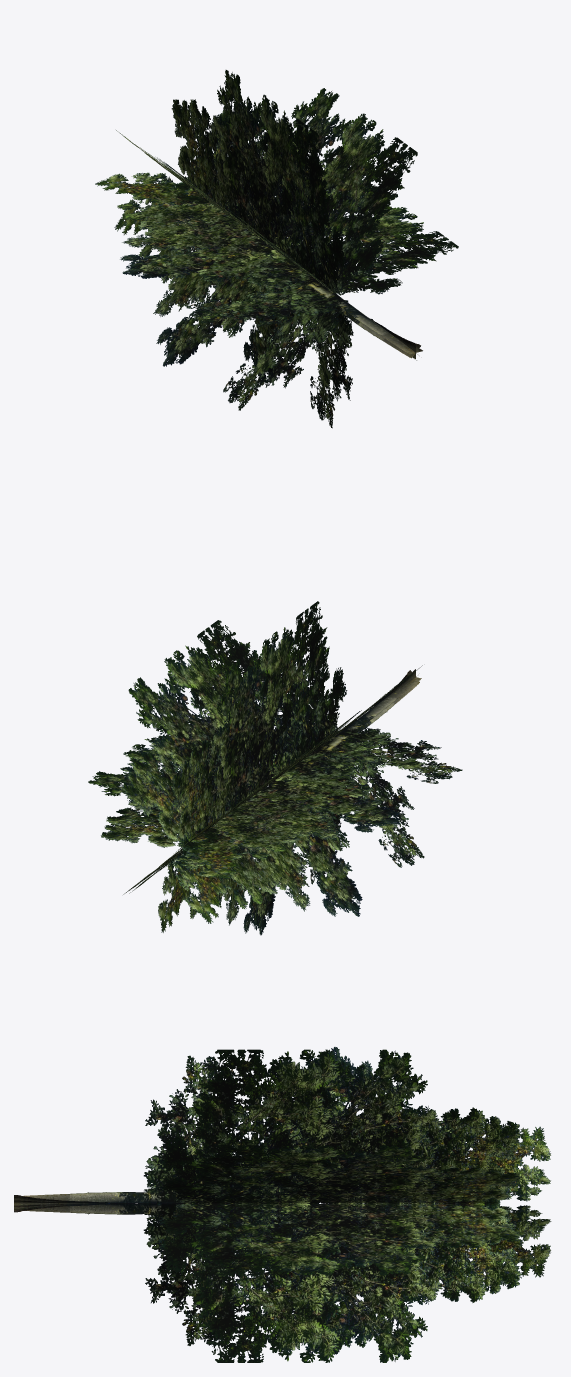
Rendered from tree4.fbx.
The picture shows the model from 3 angles, top to bottom: view 1: azimuth 30°, elevation 25°; view 2: azimuth 150°, elevation 25°; view 3: azimuth 270°, elevation 25°; orthographic projection. The views are drawn at different scales.
Parts seen in each view (by area): view 1: Tree4; view 2: Tree4; view 3: Tree4.
Boxes of the visible parts, x1,y1,x2,y2 form: Tree4: [95, 70, 458, 428]; Tree4: [88, 601, 462, 935]; Tree4: [14, 1047, 551, 1362].
Size of the model in its own units: 375 by 375 by 600.
